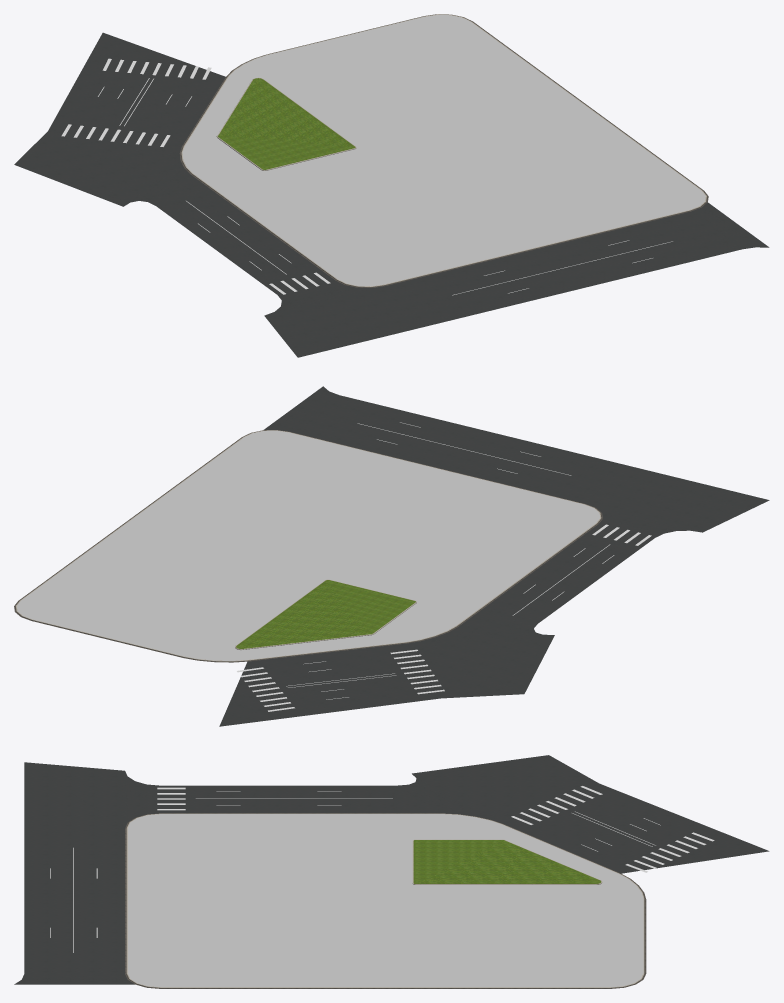
Rendered from New_Terrain_Area_15.fbx.
3 views of the same model, one above another, from view 1: azimuth 30°, elevation 25°; view 2: azimuth 150°, elevation 25°; view 3: azimuth 270°, elevation 25° (orthographic). The views are drawn at different scales.
Visible parts, largest first — view 1: Area_15, Road_12, Road_Alpha_35; view 2: Area_15, Road_12, Road_Alpha_35; view 3: Area_15, Road_12, Road_Alpha_35, Road_Alpha_43.
Boxes of the visible parts, x1=… form: Area_15: x1=179, y1=14, x2=708, y2=287; Road_12: x1=14, y1=32, x2=769, y2=357; Road_Alpha_35: x1=61, y1=58, x2=211, y2=146; Area_15: x1=14, y1=430, x2=602, y2=662; Road_12: x1=219, y1=386, x2=769, y2=726; Road_Alpha_35: x1=237, y1=649, x2=444, y2=711; Area_15: x1=125, y1=813, x2=646, y2=988; Road_12: x1=14, y1=755, x2=769, y2=984; Road_Alpha_35: x1=511, y1=786, x2=714, y2=872; Road_Alpha_43: x1=157, y1=787, x2=392, y2=810.
Size of the model in its own units: 7942 by 17.21 by 10850.
